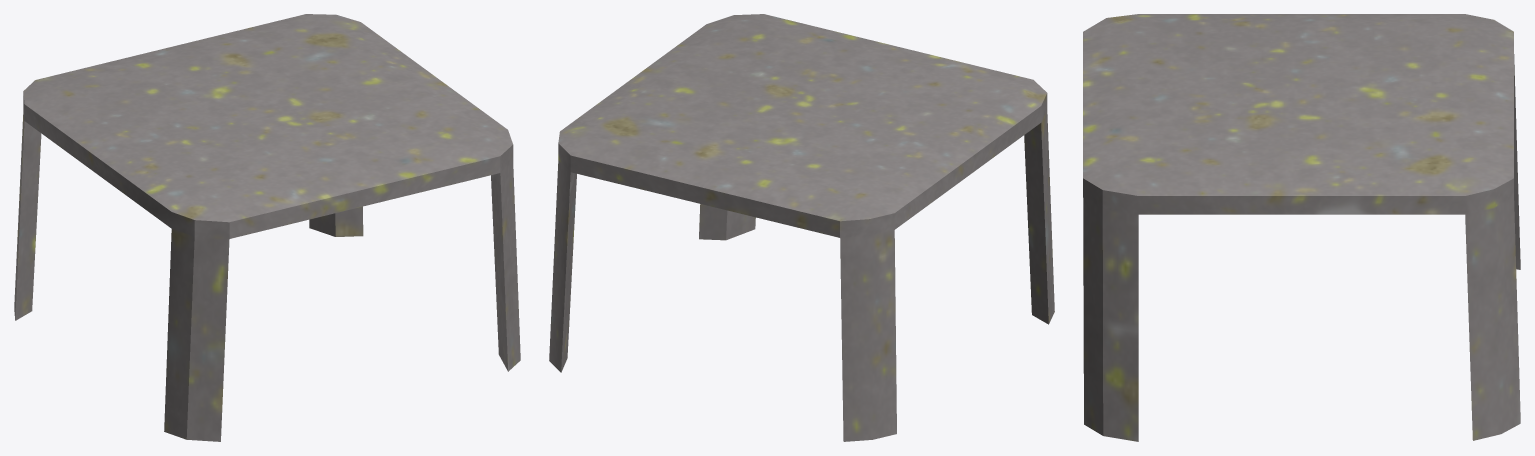
File: Plastic_Table_1.fbx
3 views of the same model, side by side, from view 1: azimuth 30°, elevation 25°; view 2: azimuth 150°, elevation 25°; view 3: azimuth 270°, elevation 25° (orthographic). The views are drawn at different scales.
Visible parts, largest first — view 1: plasticTable_1; view 2: plasticTable_1; view 3: plasticTable_1.
Part boxes in pixels (x1=…): plasticTable_1: x1=14, y1=14, x2=520, y2=441; plasticTable_1: x1=549, y1=14, x2=1054, y2=441; plasticTable_1: x1=1083, y1=14, x2=1520, y2=441.
Bounding box in the file's own units: 159 × 95.97 × 154.
